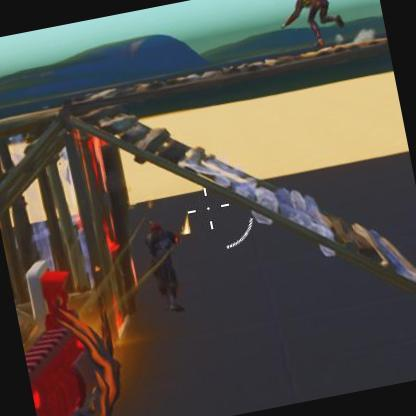person: (145, 224, 181, 306), (288, 0, 343, 45)
